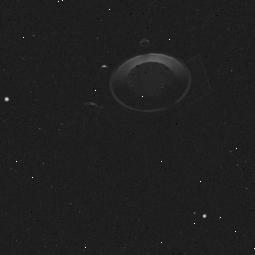cheops: (47, 41, 217, 149)
